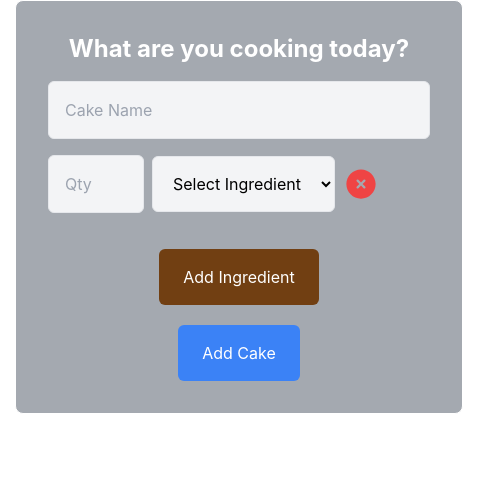
it: CakeRecipeForm › adds an ingredient when Add Ingredient button is clicked
Step 1. Click the button with test id "add-ingredient" → (239, 277), box x1=159 y1=249 x2=319 y2=305
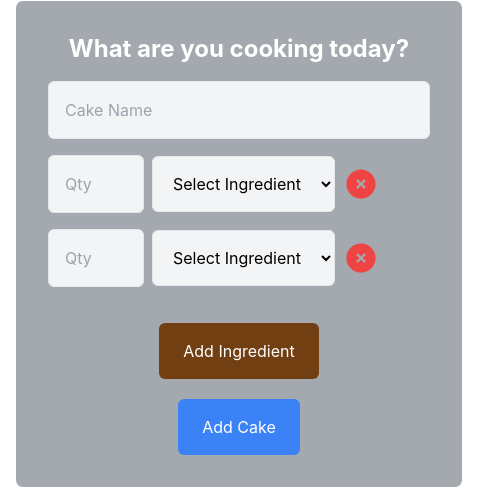
expect the element with test id "ingredient-list-0" is shown: met, box x1=48 y1=155 x2=335 y2=213
expect the element with test id "ingredient-list-1" is shown: met, box x1=48 y1=229 x2=335 y2=287
